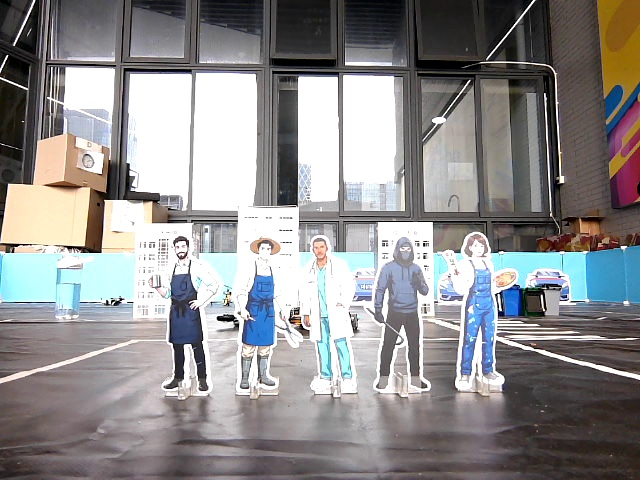community_person: (438, 226, 520, 402), (144, 232, 226, 408), (229, 229, 302, 407), (292, 230, 363, 404)
outsider: (365, 232, 437, 404)
